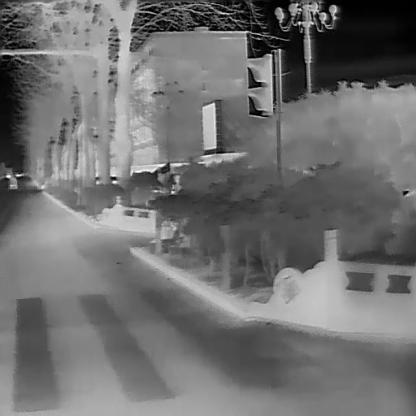car: (6, 176, 17, 188), (3, 170, 11, 178)
